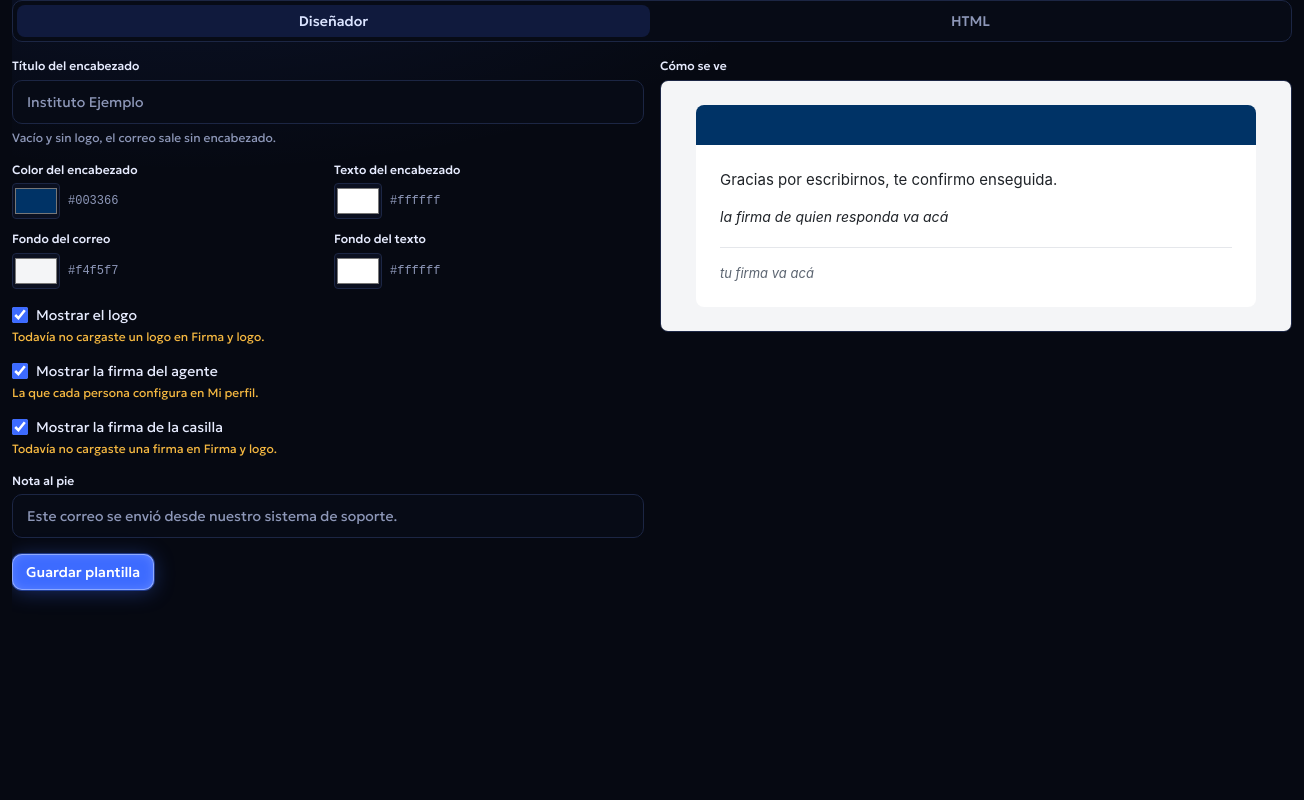
Test case: EmailTemplatePanel › refuses a template that would send an empty message
Step 1. Click the button "HTML" → [970, 21], box [654,5,1287,37]
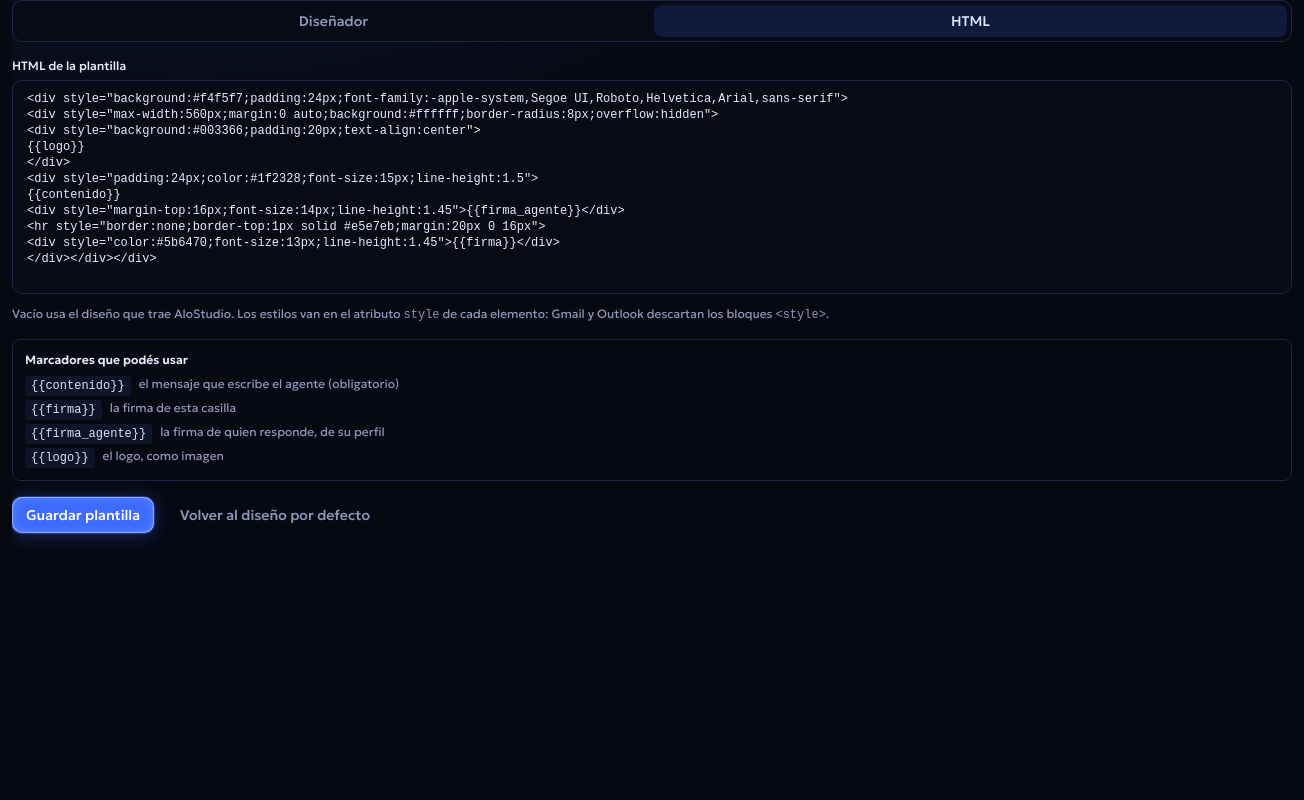
Step 2. Replace the text in the text box labelled "HTML de la plantilla" with "<div>solo encabezado</div>" → [652, 187], box [12,80,1292,294]
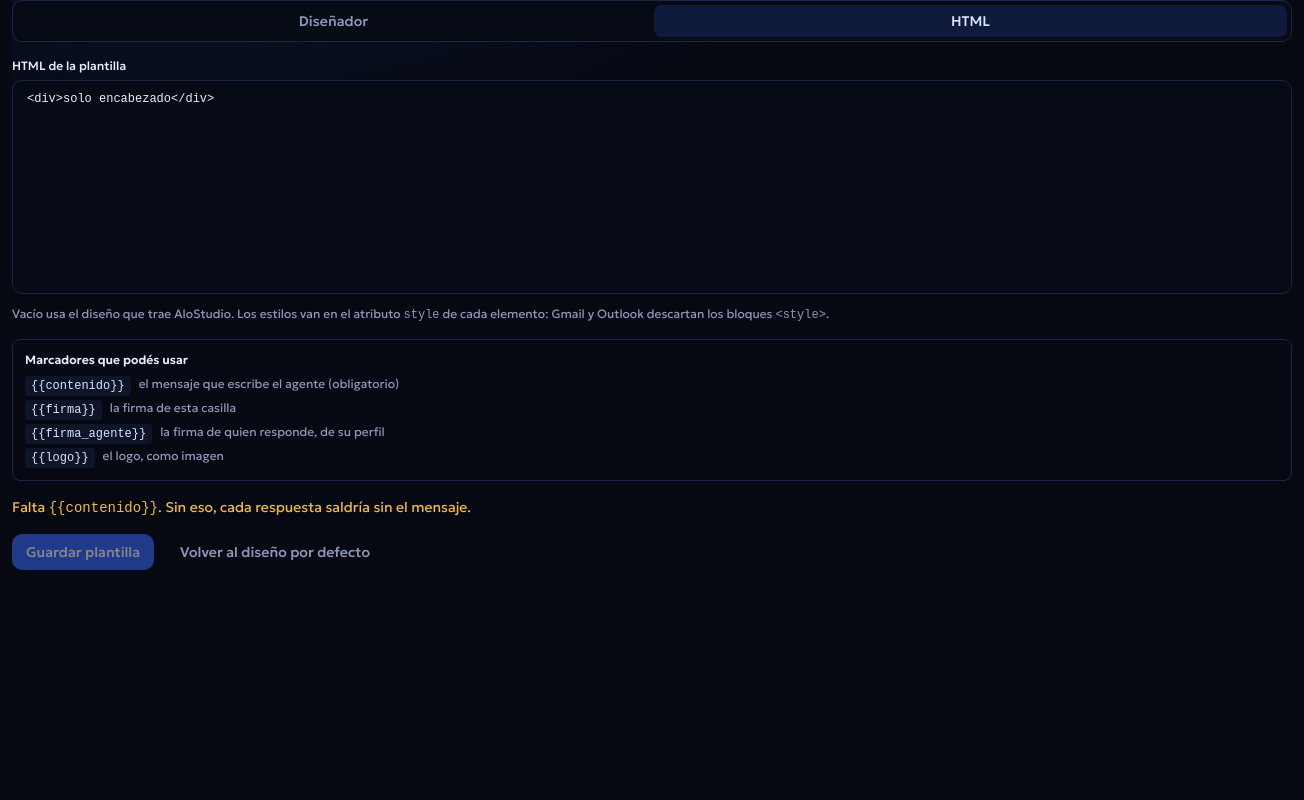
Check: the button "Guardar plantilla" is disabled, box [12,534,154,570]
Check: the message shows "contenido", box [49,500,158,516]
